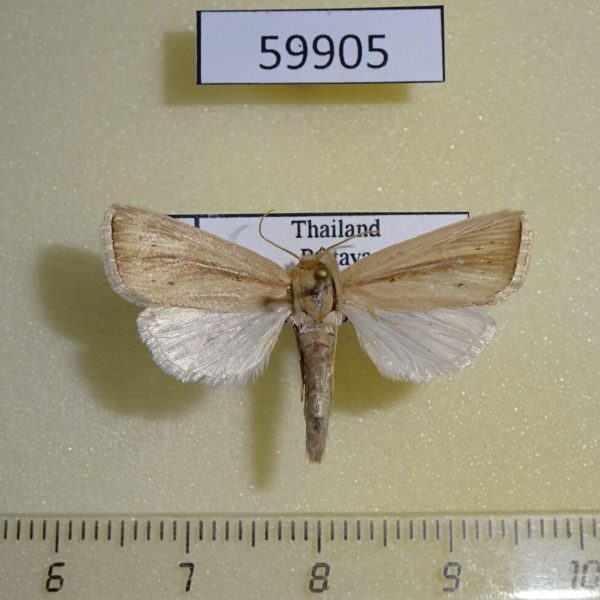Noctuidae: (98, 208, 537, 466)
